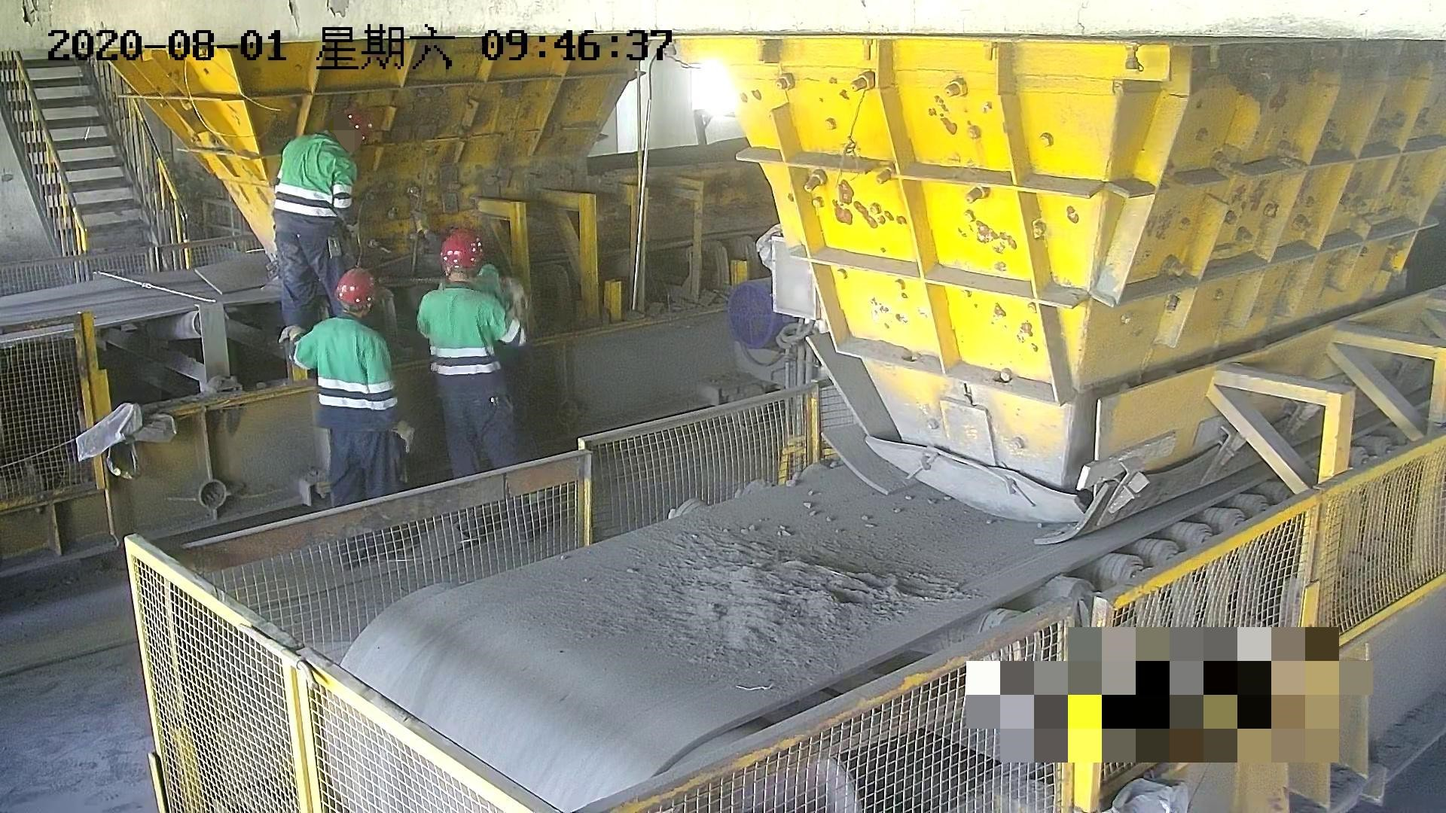hat: (334, 265, 376, 315), (440, 231, 482, 280), (331, 108, 368, 149)
person: (281, 262, 417, 569), (417, 229, 544, 544), (272, 104, 371, 330)
